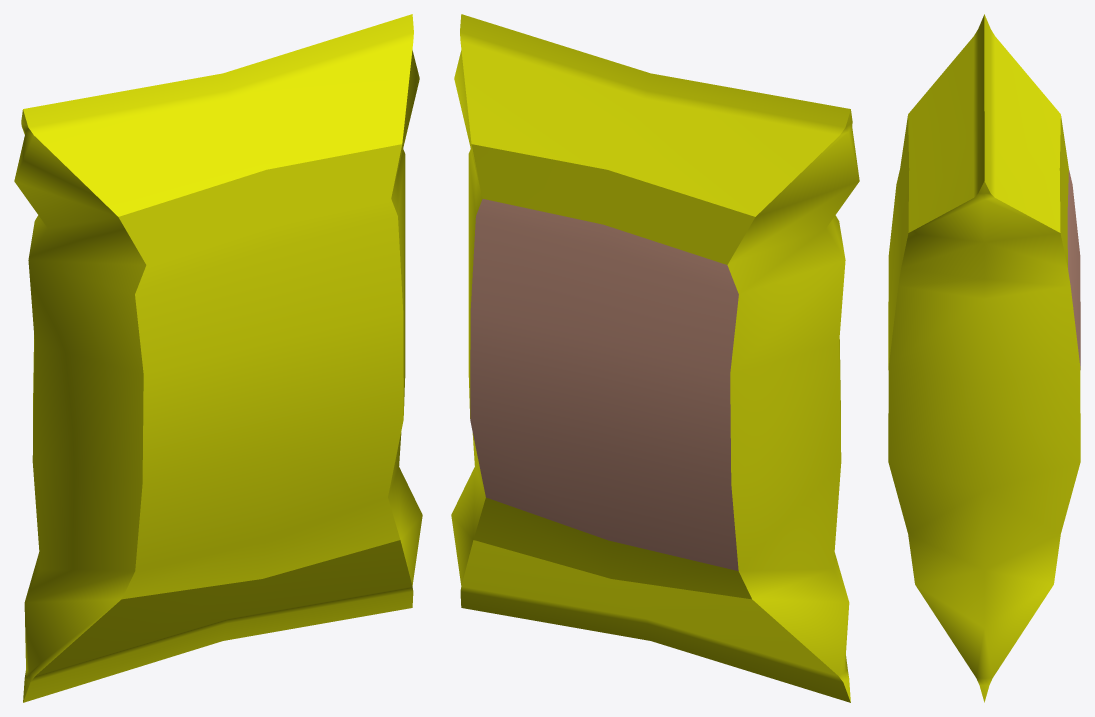
Rendered from ChipBag.fbx.
The picture shows the model from 3 angles, left to right: view 1: azimuth 30°, elevation 25°; view 2: azimuth 150°, elevation 25°; view 3: azimuth 270°, elevation 25°; orthographic projection. The views are drawn at different scales.
Parts seen in each view (by area): view 1: pCube1; view 2: pCube1; view 3: pCube1.
Boxes of the visible parts, bbox=[...] form: pCube1: bbox=[14, 14, 422, 702]; pCube1: bbox=[451, 14, 859, 702]; pCube1: bbox=[888, 14, 1080, 702].
Bounding box in the file's own units: 3.21 × 4.47 × 1.49.
